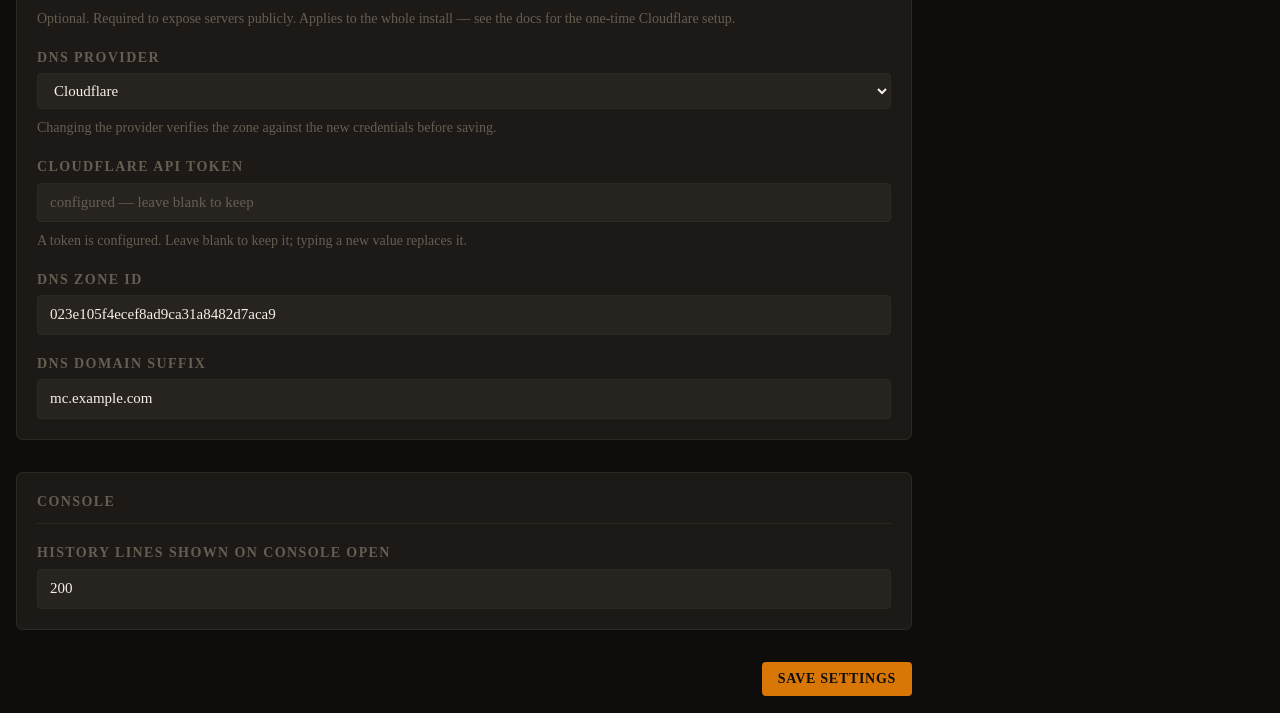
SettingsPage › shows error message on API failure
The width and height of the screenshot is (1280, 713).
(page scrolled)
Click the button "Save Settings".
click(837, 679)  # box [762, 662, 912, 696]
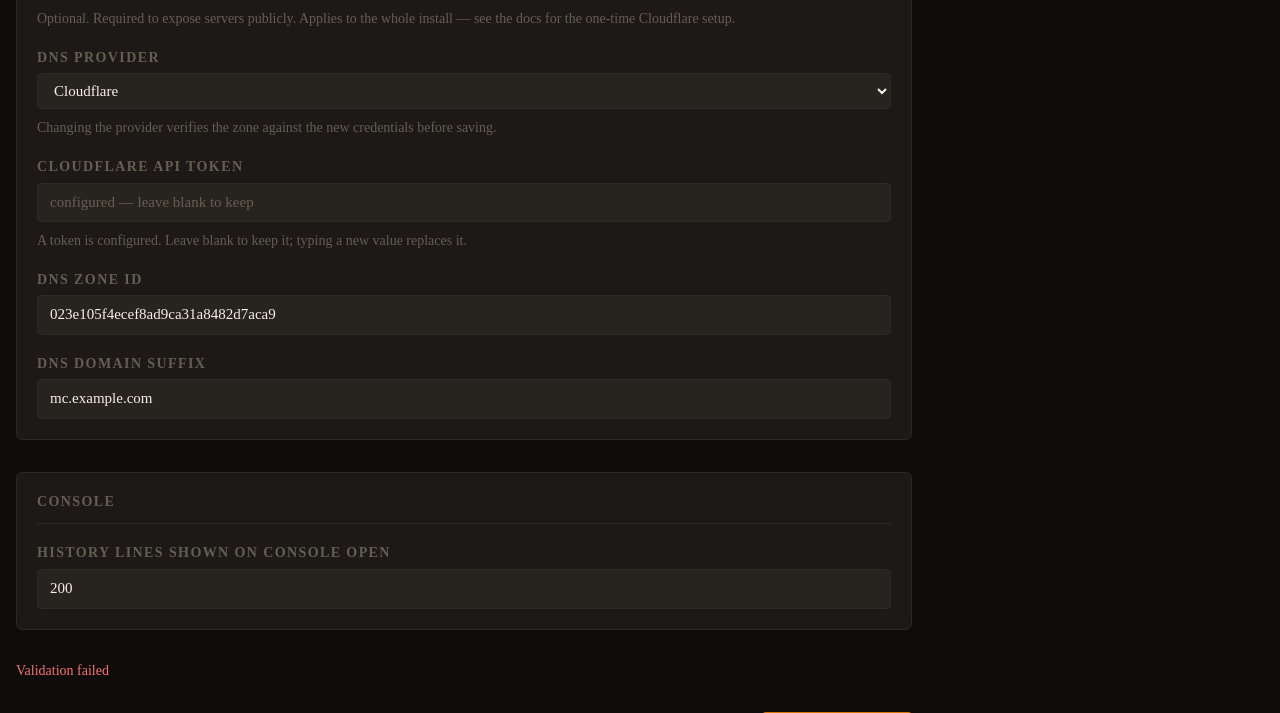
expect the text "Validation failed" is shown: met, box [16, 663, 109, 678]
